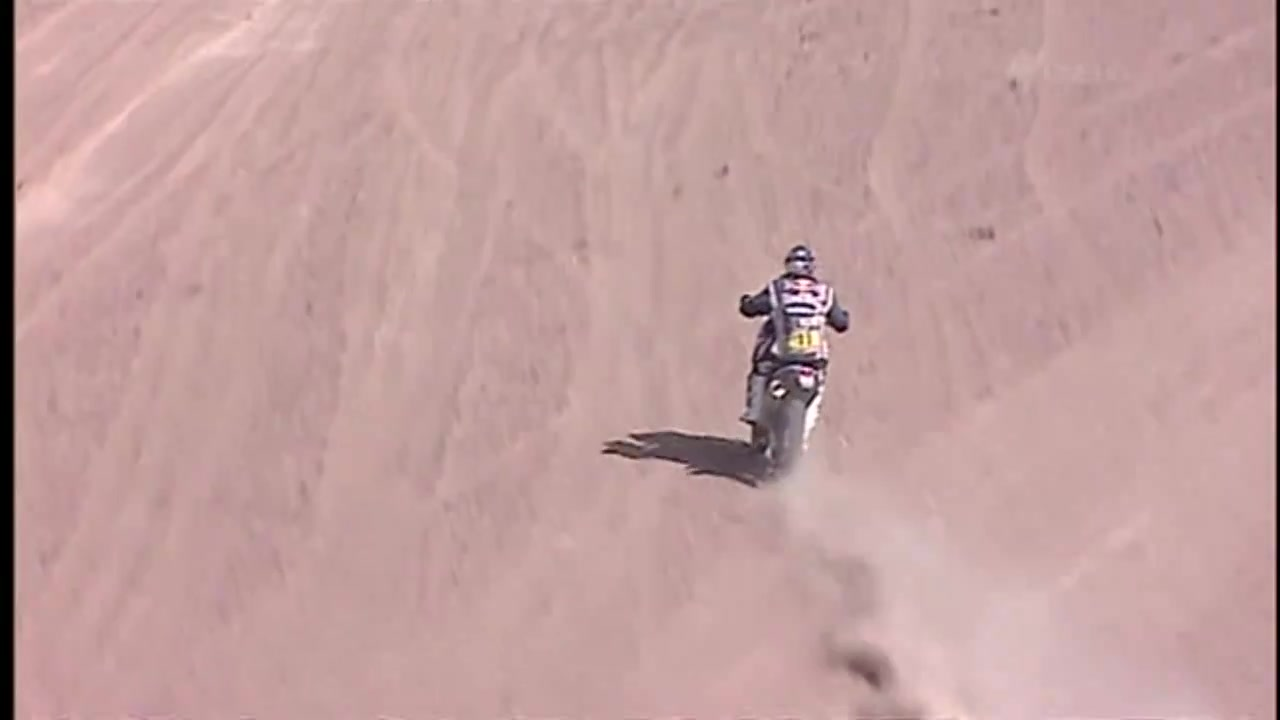motorbike: (743, 321, 826, 465)
